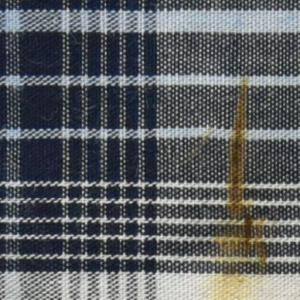Damage: (228, 117, 257, 253)
Oil Stain: (189, 74, 273, 300)
